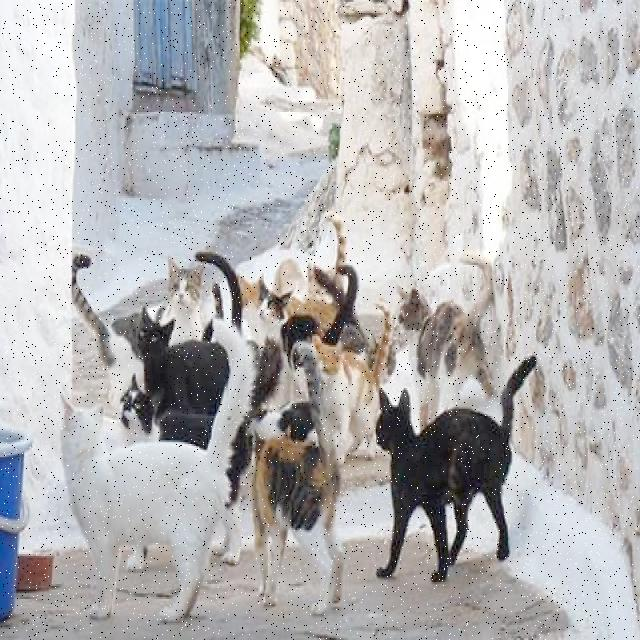cat: (61, 320, 254, 622), (376, 357, 535, 582), (252, 436, 344, 615), (399, 258, 494, 428), (135, 308, 230, 447), (312, 308, 391, 464), (72, 255, 144, 408), (120, 378, 215, 449), (149, 259, 202, 345), (222, 416, 252, 564), (250, 401, 314, 441), (316, 210, 346, 291), (258, 276, 292, 340), (238, 275, 265, 345), (272, 259, 306, 297), (309, 266, 325, 297), (128, 548, 140, 569)
